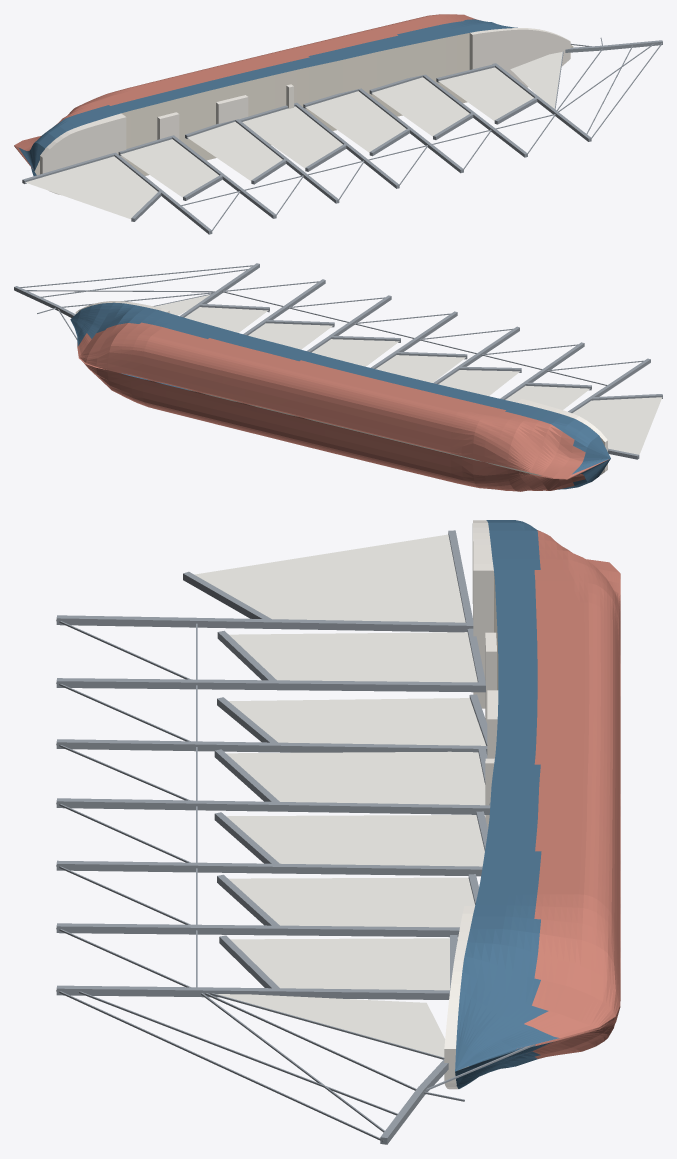
Rendered from thomas-w-lawson.glb.
3 views of the same model, one above another, from view 1: azimuth 30°, elevation 25°; view 2: azimuth 150°, elevation 25°; view 3: azimuth 270°, elevation 25° (orthographic). The views are drawn at different scales.
Parts seen in each view (by area): view 1: Thomas W. Lawson; view 2: Thomas W. Lawson; view 3: Thomas W. Lawson.
Boxes of the visible parts, x1,y1,x2,y2 form: Thomas W. Lawson: (14,14,662,234); Thomas W. Lawson: (14,263,662,491); Thomas W. Lawson: (56,520,620,1144).
Size of the model in its own units: 2.34 by 0.2479 by 0.9189.
